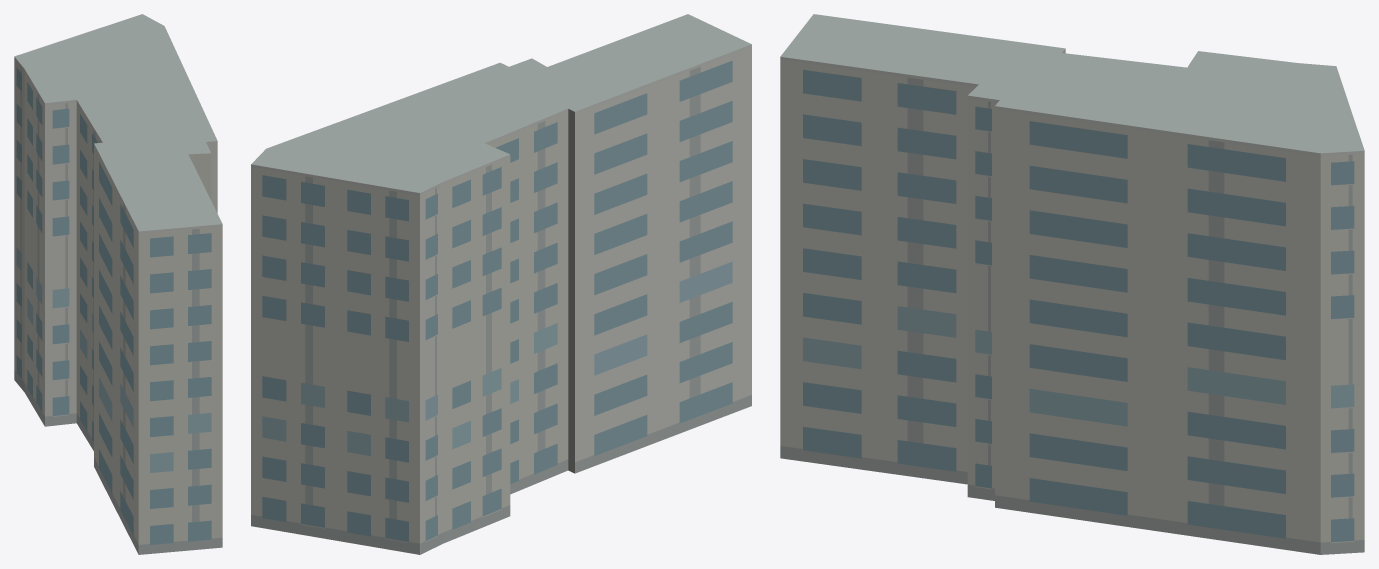
The model's file is survey-upis-32721560.glb.
3 views of the same model, side by side, from view 1: azimuth 30°, elevation 25°; view 2: azimuth 150°, elevation 25°; view 3: azimuth 270°, elevation 25° (orthographic). The views are drawn at different scales.
Visible parts, largest first — view 1: survey-upis-32721560.tmp; view 2: survey-upis-32721560.tmp; view 3: survey-upis-32721560.tmp.
Part boxes in pixels (box(x1,y1,x2,y2)): survey-upis-32721560.tmp: box(14, 14, 222, 554); survey-upis-32721560.tmp: box(251, 14, 751, 554); survey-upis-32721560.tmp: box(780, 14, 1364, 554).
Bounding box in the file's own units: 23.84 × 32.02 × 42.25.
